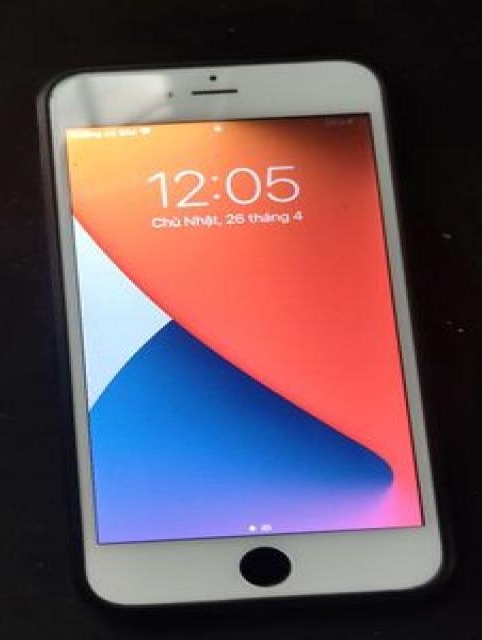screen_defect: (214, 523, 320, 596)
